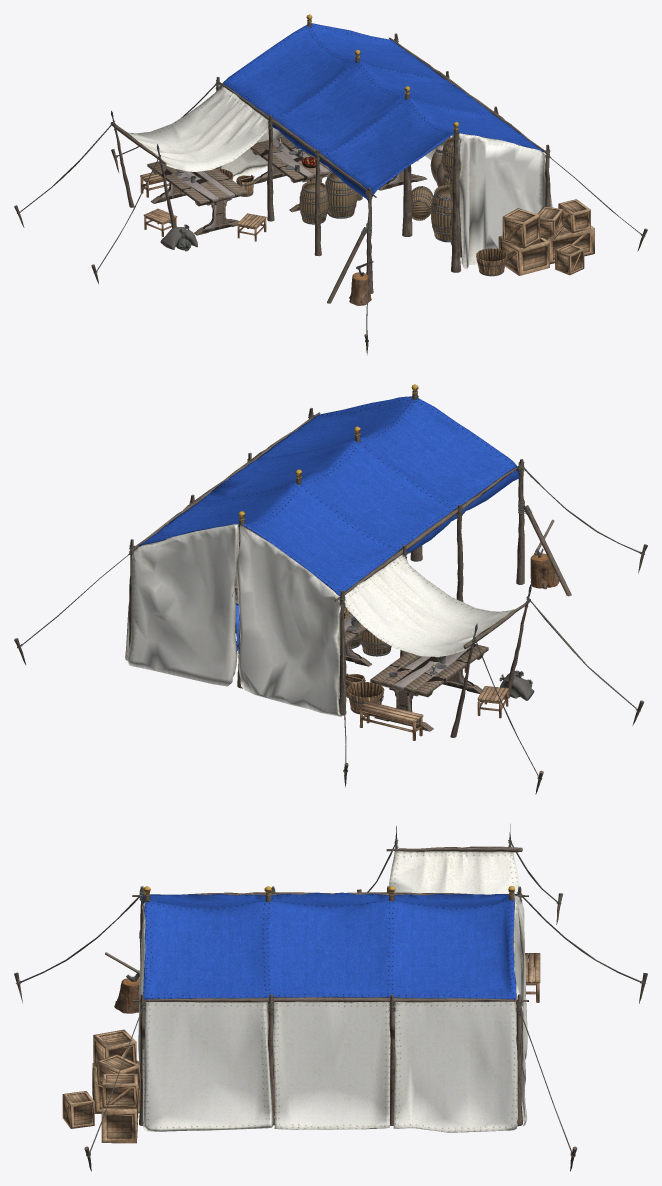
Rendered from demacian-tent.glb.
3 views of the same model, one above another, from view 1: azimuth 30°, elevation 25°; view 2: azimuth 150°, elevation 25°; view 3: azimuth 270°, elevation 25° (orthographic). The views are drawn at different scales.
Parts seen in each view (by area): view 1: market_tent; view 2: market_tent; view 3: market_tent.
Part boxes in pixels (x1,y1,x2,y2): market_tent: (14, 14, 647, 354); market_tent: (14, 384, 647, 794); market_tent: (14, 824, 647, 1171).
Size of the model in its own units: 10.08 by 3.52 by 9.98.
Materials: 18 (18 with a texture image).
